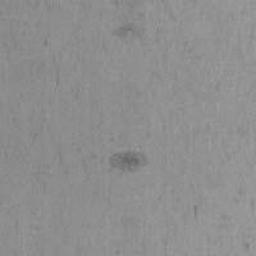Oil spot: (108, 150, 151, 174), (110, 20, 148, 46)
